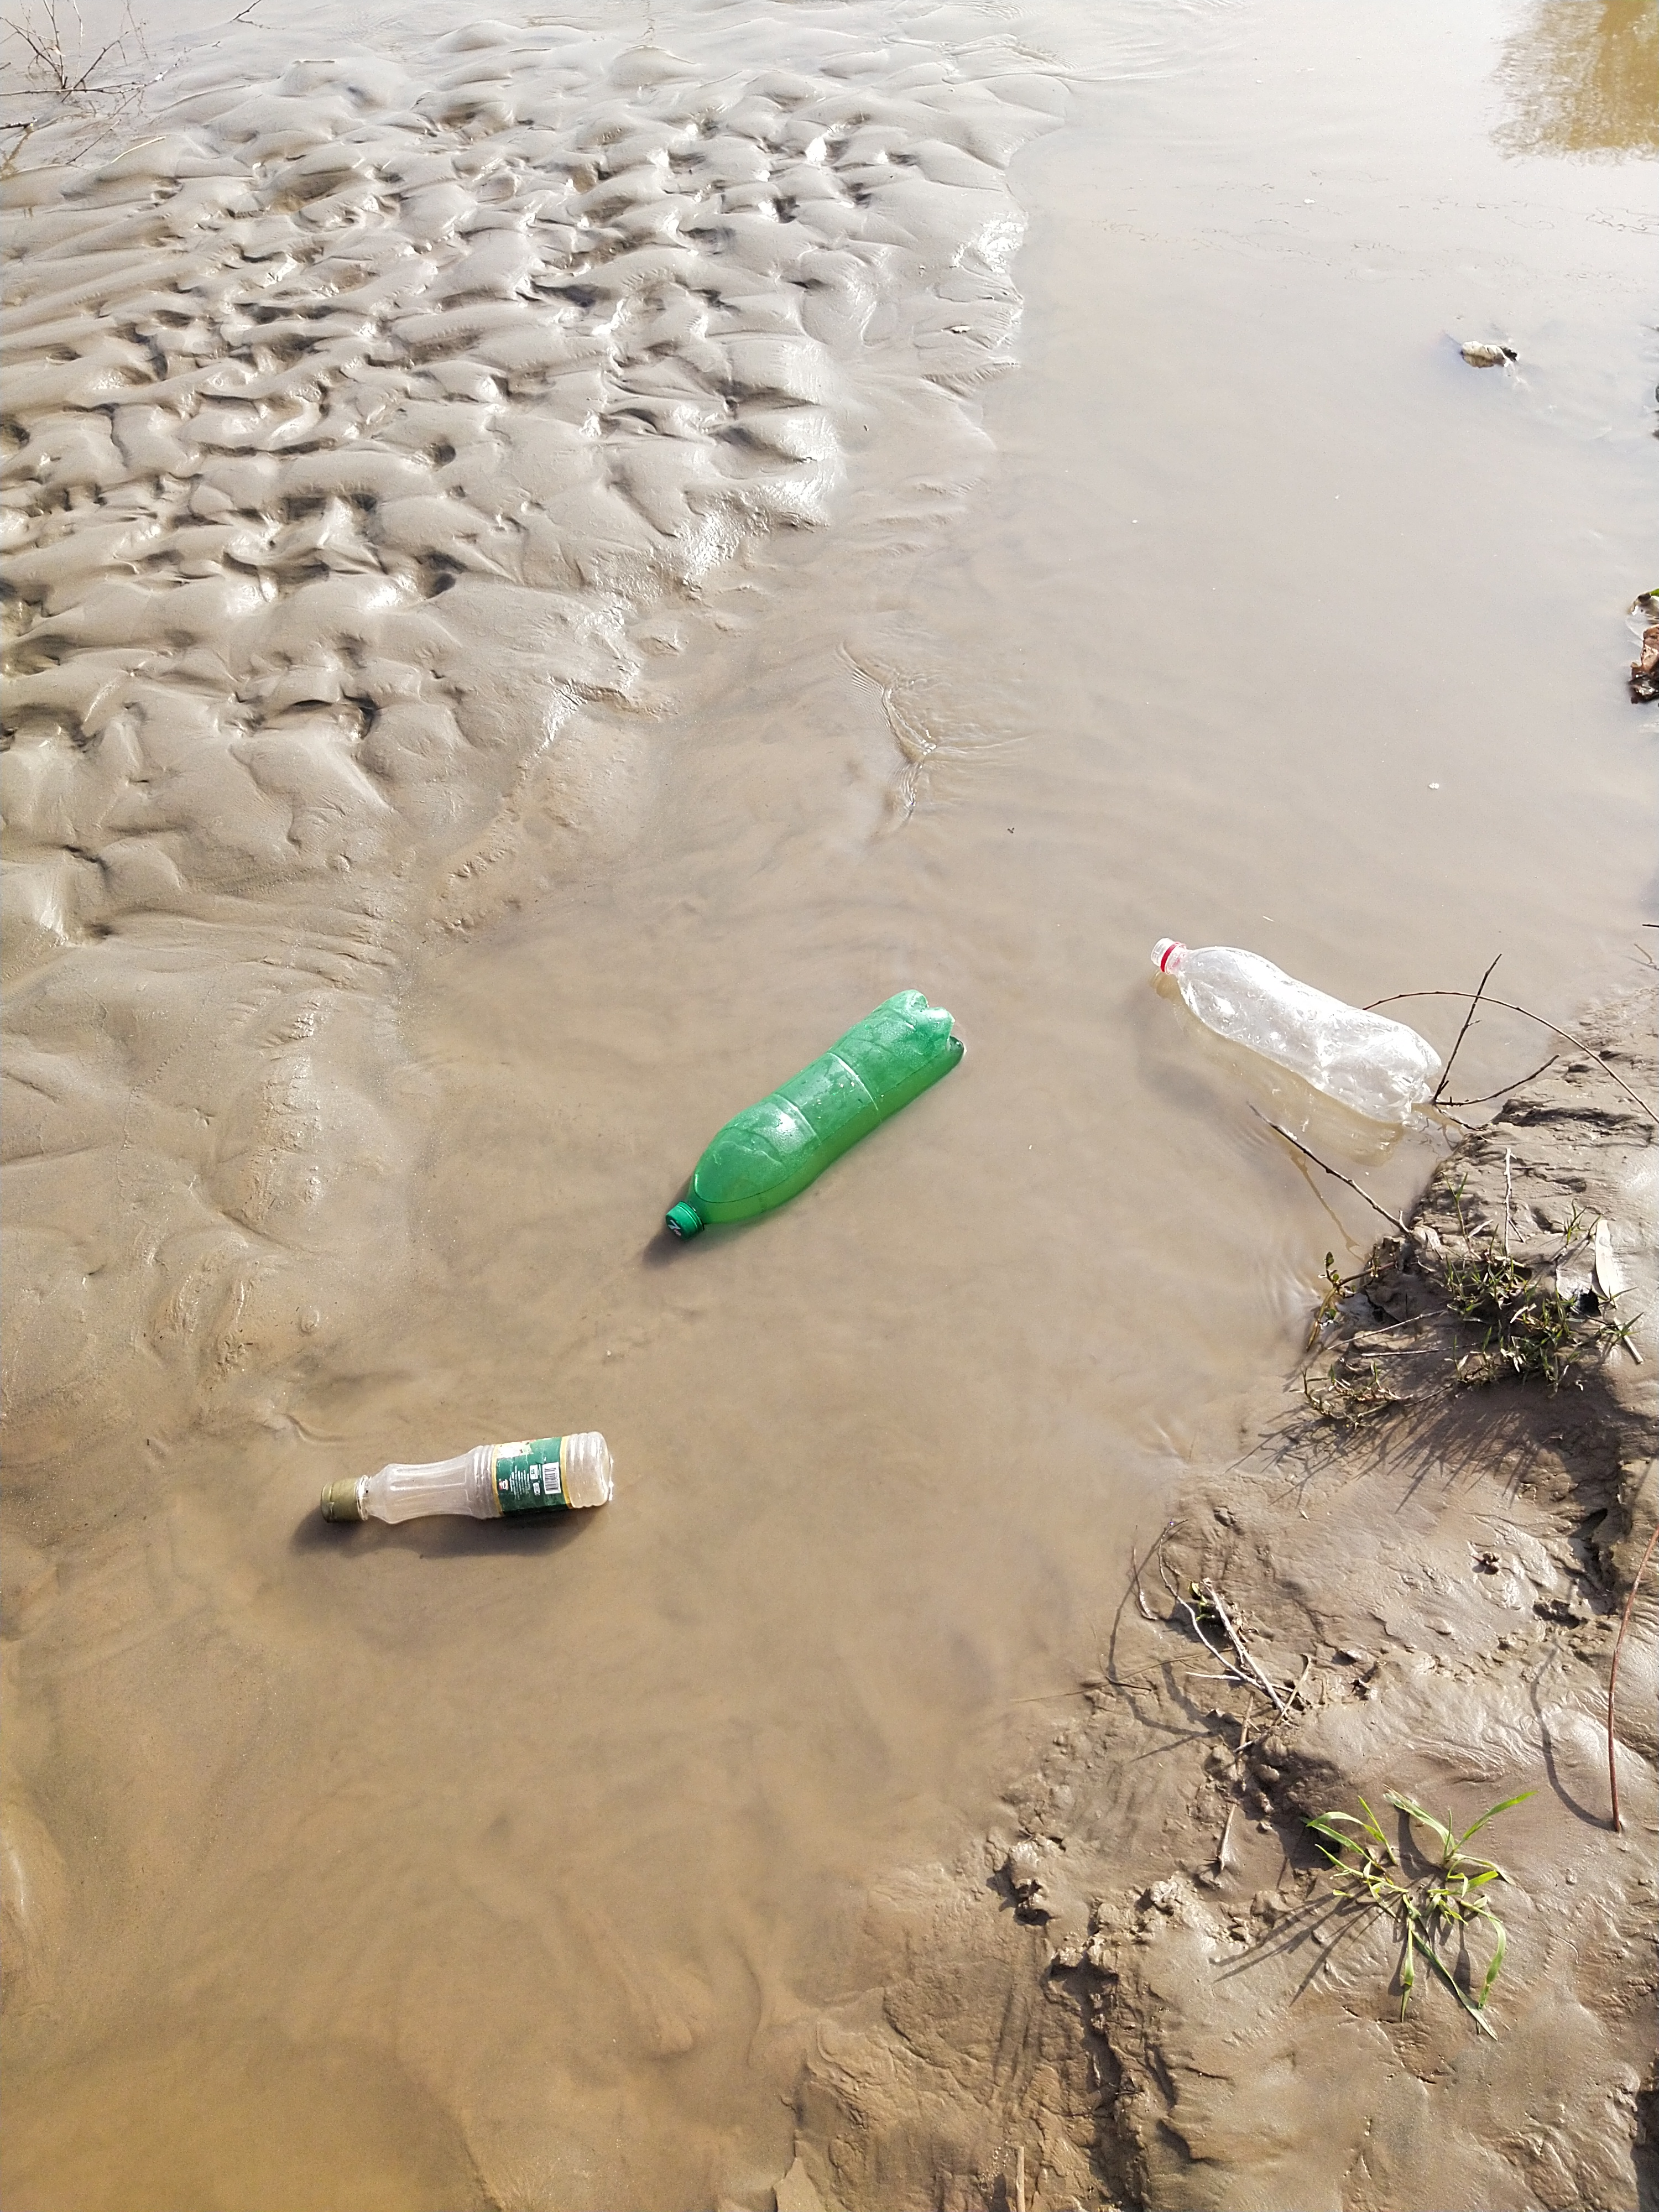Plastic Bottle: (666, 988, 964, 1242), (1150, 937, 1443, 1123), (321, 1430, 612, 1524)
